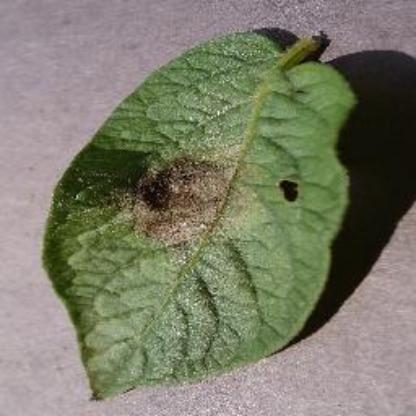Late-Blight: (29, 17, 382, 388)
